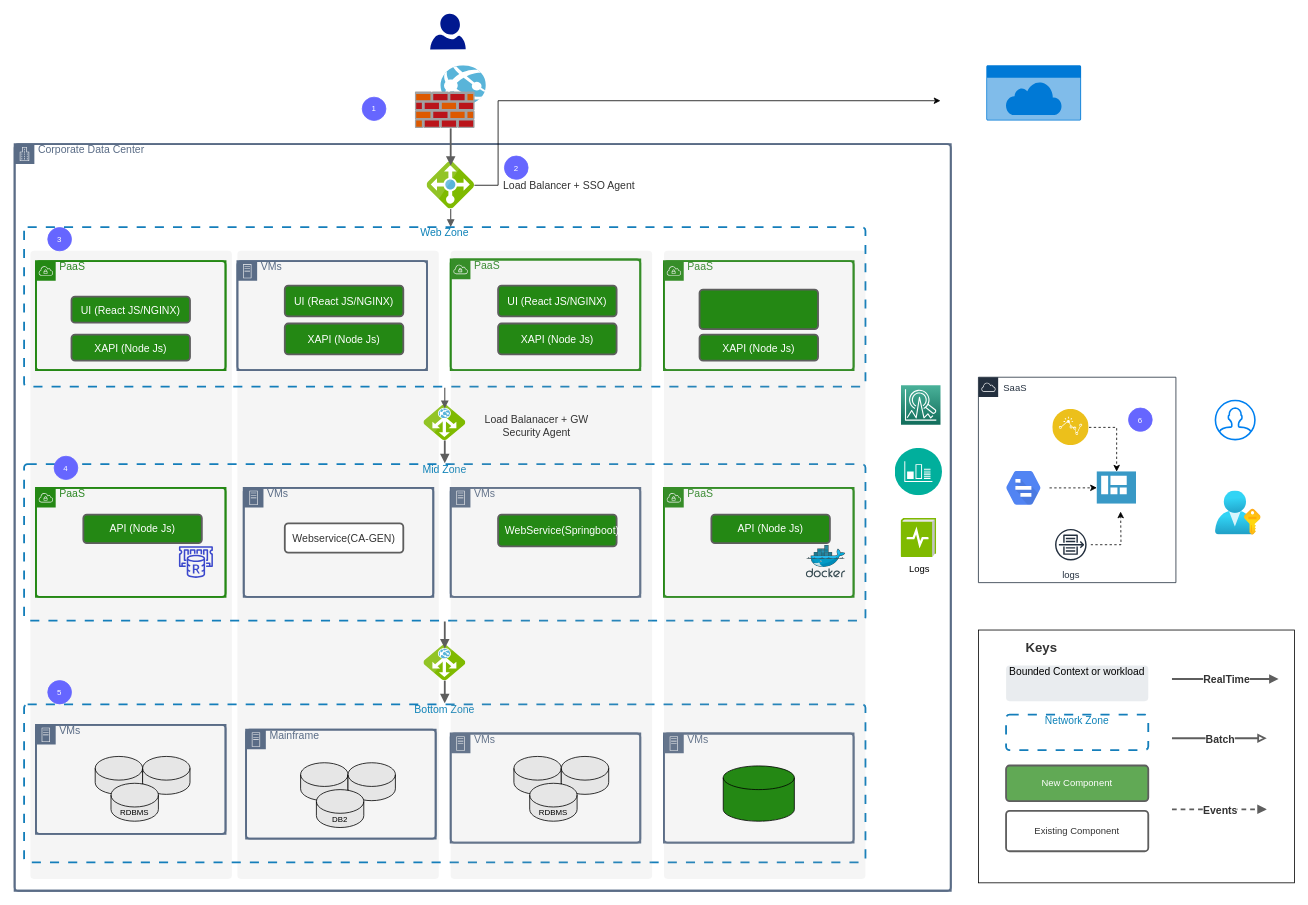
This 1308x905 diagram has some shape labels left out. The centre of each missing label's shape, as x and y in pixels:
"APM" belongs at (x=918, y=471).
"Business & Stakeholders" belongs at (x=1234, y=419).
"Customer" belongs at (x=447, y=31).
"CX Metrics" belongs at (x=920, y=404).
"dashboard & Alert" belongs at (x=1116, y=487).
"IDP" belongs at (x=1033, y=92).
"MongoDB" belongs at (x=758, y=793).
"Operations" belongs at (x=1238, y=513).
"Redis" belongs at (x=195, y=561).
"telemetry" belongs at (x=1070, y=427).
"Trace" belongs at (x=1023, y=487).
"UI (React & TF JS/NGINX)" belongs at (x=758, y=309).
"WAF & CDN" belongs at (x=450, y=96).
